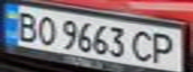3: (106, 25, 130, 60)
6: (90, 22, 112, 56), (75, 20, 93, 54)
9: (54, 17, 78, 51)
B: (9, 8, 42, 43)
C: (127, 28, 160, 64)
O: (33, 13, 60, 46)
P: (148, 29, 181, 65)
